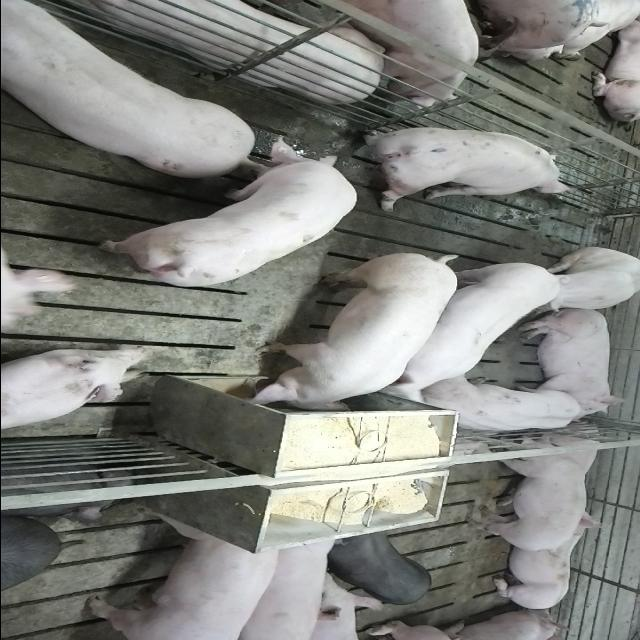Feeding: (238, 256, 464, 420)
Lateral_lying: (49, 0, 407, 103), (512, 306, 625, 418)
Sitting: (422, 376, 588, 436), (524, 247, 640, 315)
Standing: (1, 0, 257, 174), (92, 142, 353, 292), (374, 257, 562, 400), (79, 506, 278, 638), (348, 125, 574, 210), (458, 426, 593, 554), (331, 0, 478, 106), (220, 526, 344, 638), (327, 526, 435, 604)
Sternal_lying: (0, 348, 152, 432), (487, 514, 609, 610)
